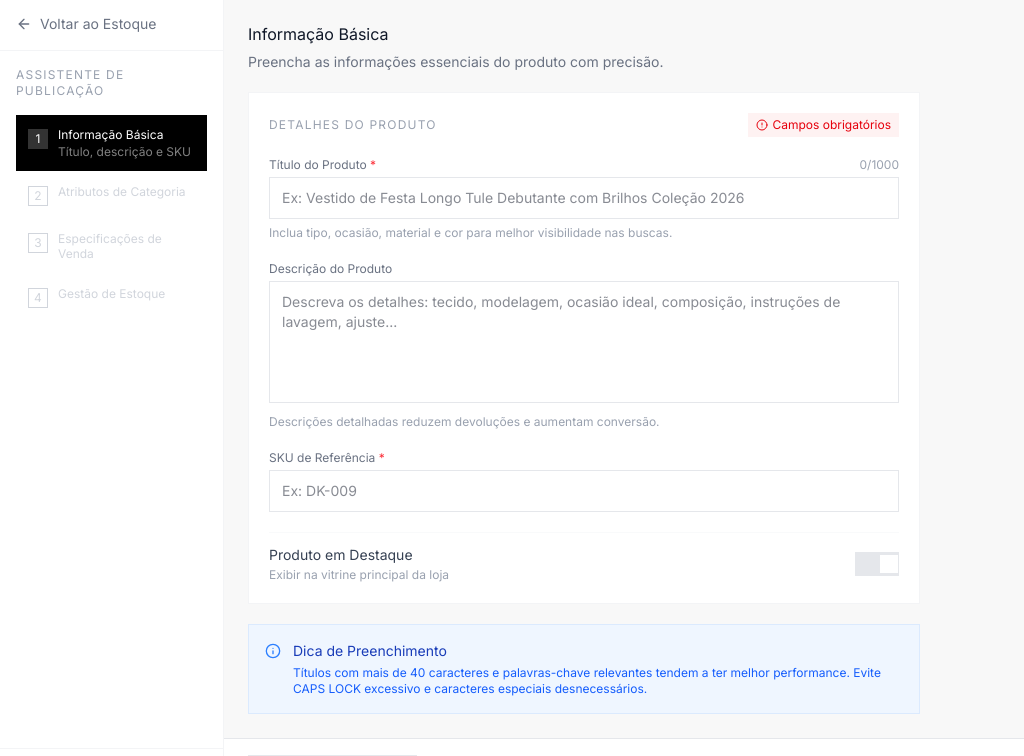
Test: AddProduct › navega pelos passos já concluídos no menu lateral
Type "Vestido Gala" into the field with placeholder "Ex: Vestido de Festa Longo". click: (584, 198)
box: x1=269 y1=177 x2=899 y2=219
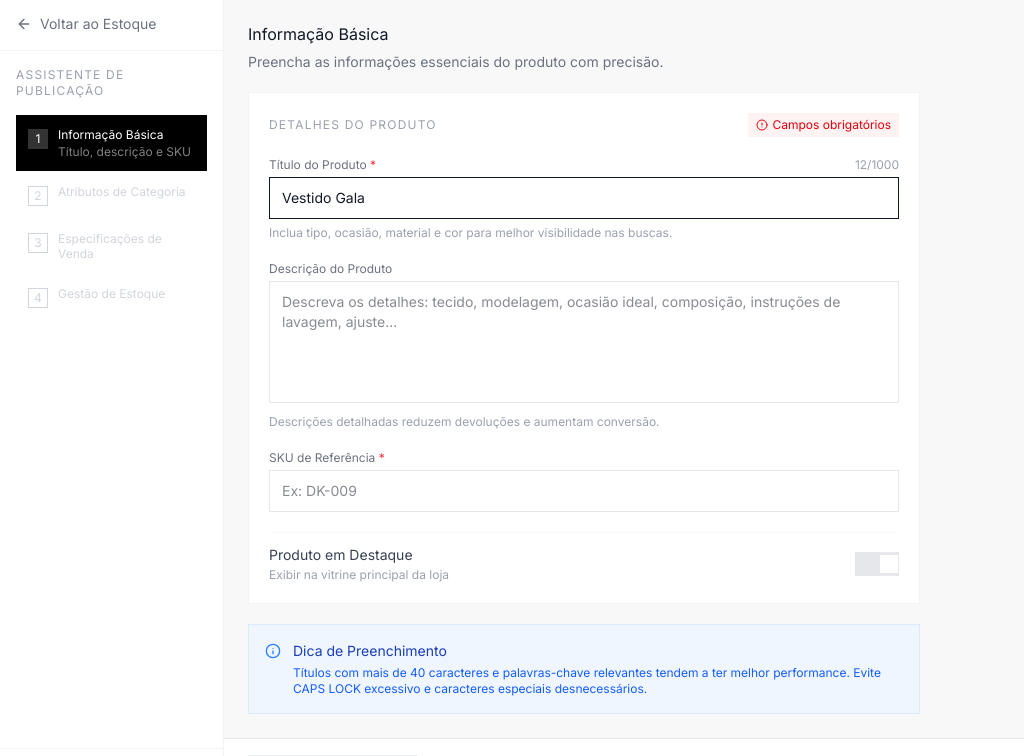
Type "Longo em tule" into the text box with placeholder "Descreva os detalhes". click: (584, 342)
box: x1=269 y1=281 x2=899 y2=403
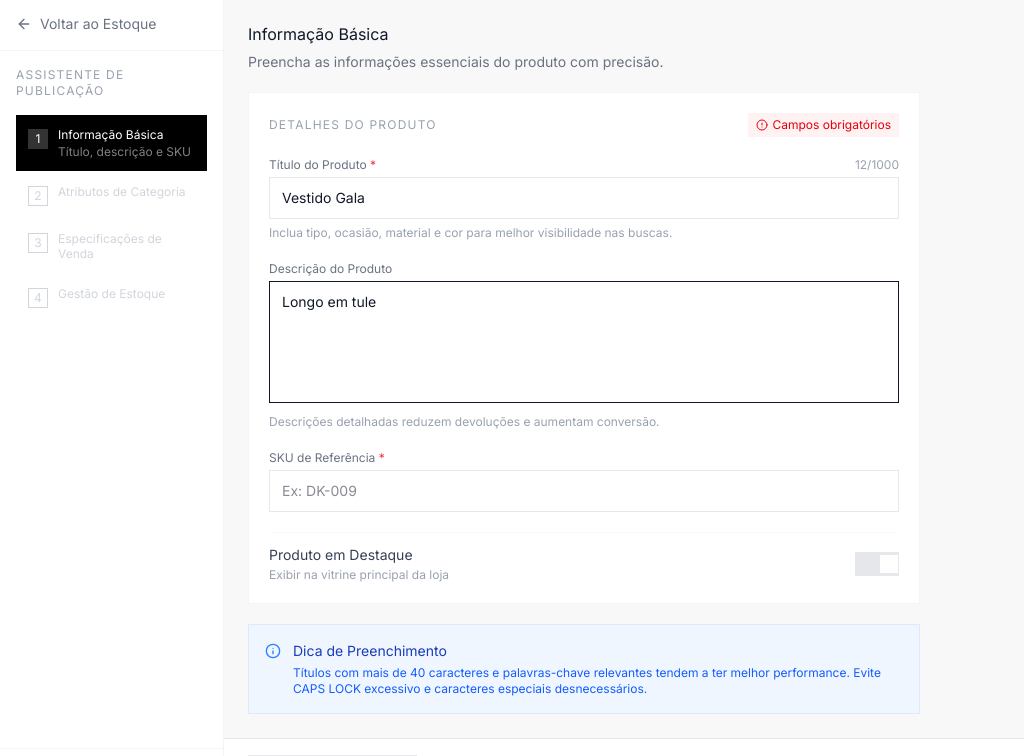
Type "DK-GALA" into the field with placeholder "Ex: DK-009". click: (584, 491)
box: x1=269 y1=470 x2=899 y2=512
(page scrolled)
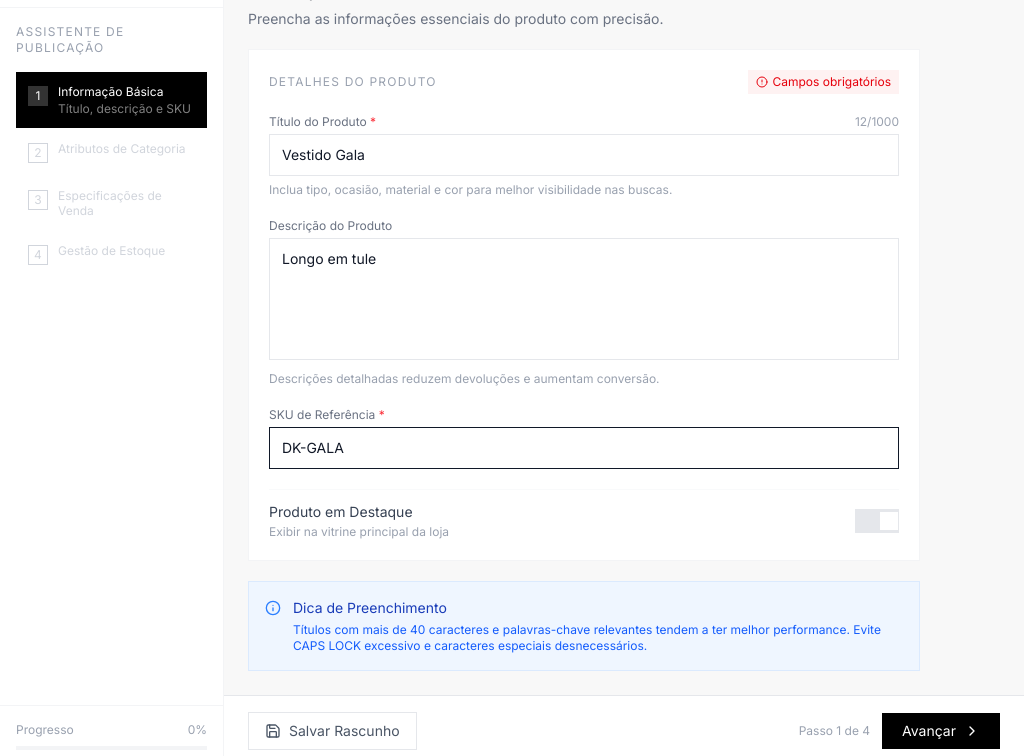
Click the button "Avançar". click: (941, 731)
box: x1=882 y1=713 x2=1000 y2=749
(page scrolled)
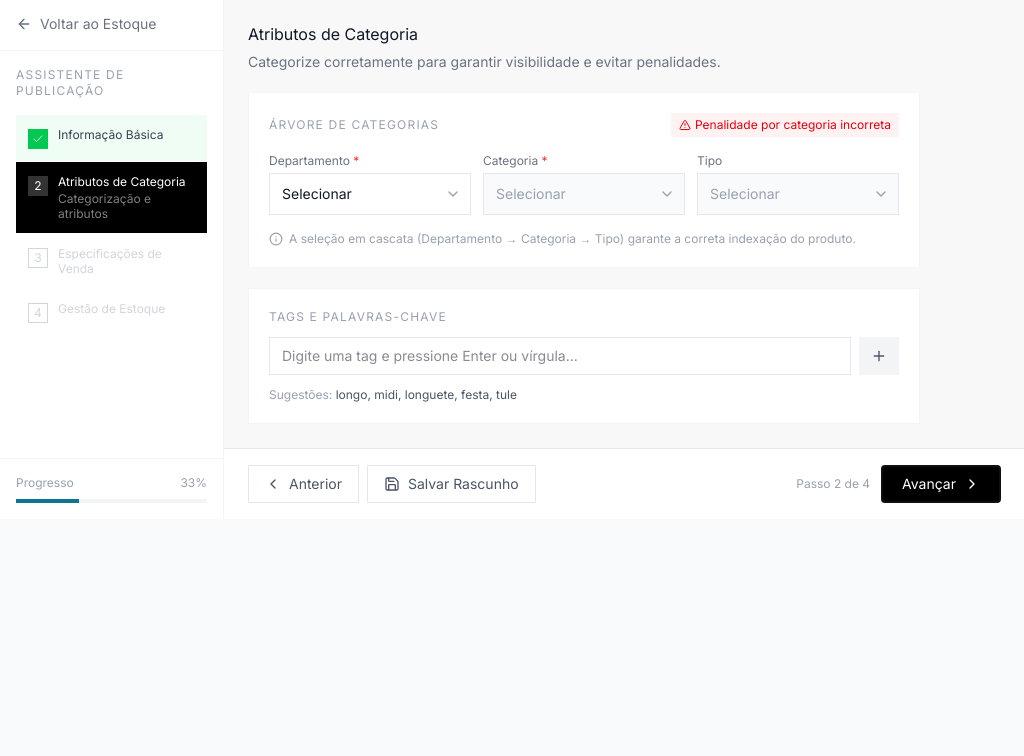
Click the button "Informação Básica". click: (112, 138)
box: x1=16 y1=115 x2=207 y2=161
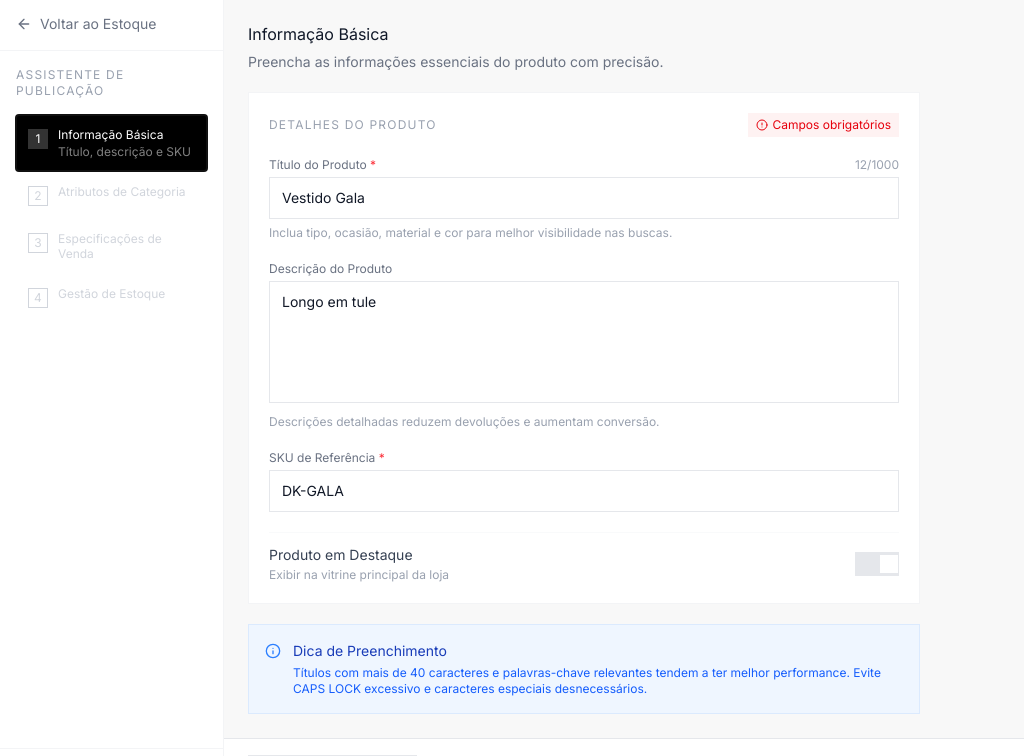
Expected: the field showing "Vestido Gala" below "Título do Produto" is shown, x1=269 y1=177 x2=899 y2=219
